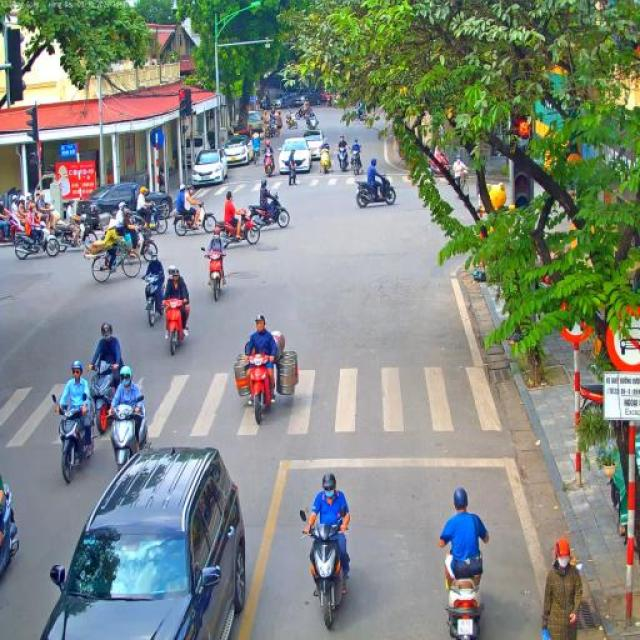bus: (479, 59, 640, 226)
car: (38, 444, 248, 640), (73, 181, 174, 231), (191, 148, 228, 187), (278, 136, 312, 175), (223, 135, 251, 167), (300, 130, 324, 161), (234, 129, 255, 160), (270, 92, 300, 109), (304, 89, 321, 103), (294, 92, 304, 106)
motorcycle: (298, 510, 352, 630), (235, 350, 297, 424), (52, 394, 92, 484), (110, 395, 150, 474), (445, 561, 484, 640), (85, 361, 115, 435), (213, 208, 261, 246), (0, 484, 20, 575), (12, 224, 61, 260), (248, 192, 290, 232), (172, 200, 216, 236), (53, 215, 98, 250), (162, 298, 188, 357), (130, 200, 168, 240), (201, 246, 227, 300), (356, 173, 396, 208), (141, 271, 164, 327), (130, 224, 160, 264), (0, 214, 26, 246), (9, 204, 31, 231), (426, 155, 450, 176), (26, 206, 44, 227), (46, 207, 60, 232), (336, 146, 349, 172), (319, 148, 332, 174), (262, 152, 276, 176), (350, 150, 362, 176), (286, 112, 299, 129), (308, 115, 320, 131), (296, 106, 308, 120), (354, 108, 366, 122), (252, 146, 260, 166), (268, 116, 276, 130)
truck: (240, 109, 264, 143)
